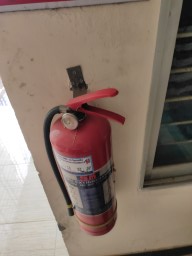fire_extinguisher: (66, 88, 177, 193)
